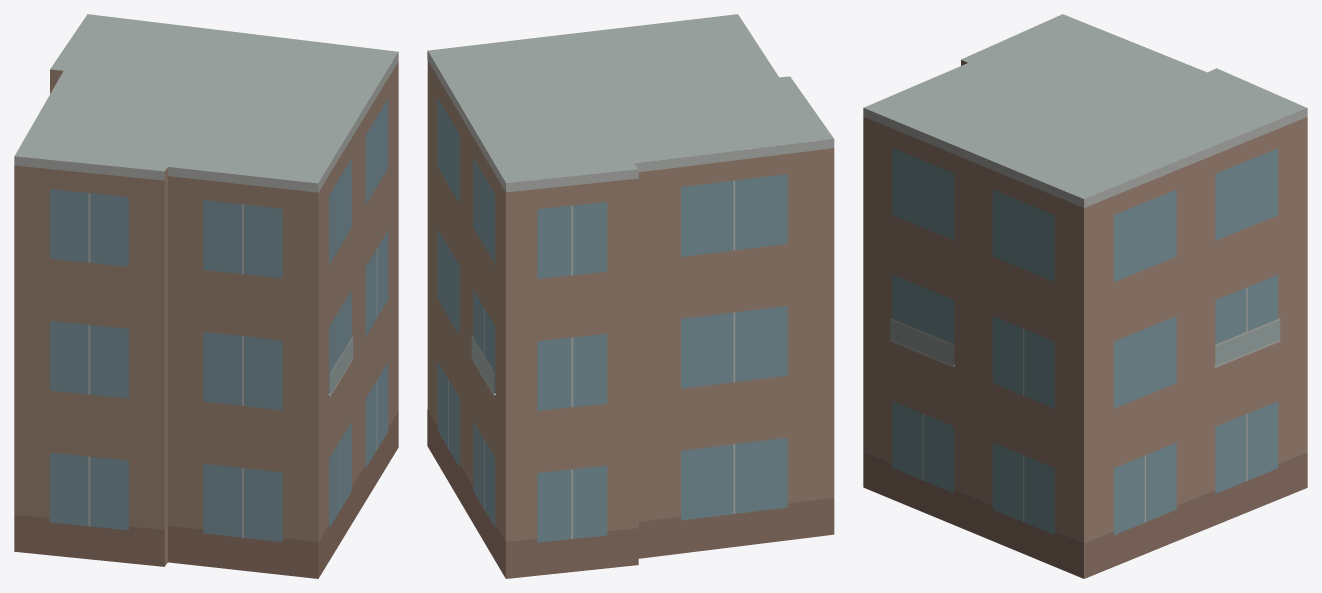
File: survey-upis-32724450.glb
The picture shows the model from 3 angles, left to right: view 1: azimuth 30°, elevation 25°; view 2: azimuth 150°, elevation 25°; view 3: azimuth 270°, elevation 25°; orthographic projection. The views are drawn at different scales.
Visible parts, largest first — view 1: survey-upis-32724450.tmp; view 2: survey-upis-32724450.tmp; view 3: survey-upis-32724450.tmp.
Part boxes in pixels (left/top/right/bottom): survey-upis-32724450.tmp: left=14, top=14, right=398, bottom=578; survey-upis-32724450.tmp: left=427, top=14, right=834, bottom=578; survey-upis-32724450.tmp: left=863, top=14, right=1307, bottom=578.
Bounding box in the file's own units: 10.99 × 10.5 × 11.14.
